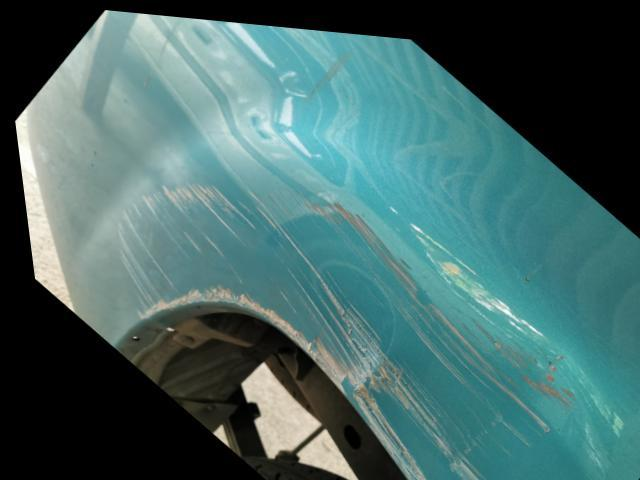scratch: (109, 175, 570, 480)
